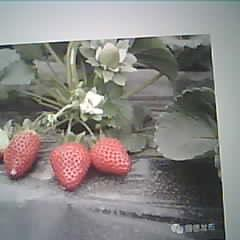straw-ripe: (51, 145, 90, 188), (5, 131, 39, 178), (93, 138, 130, 174)
